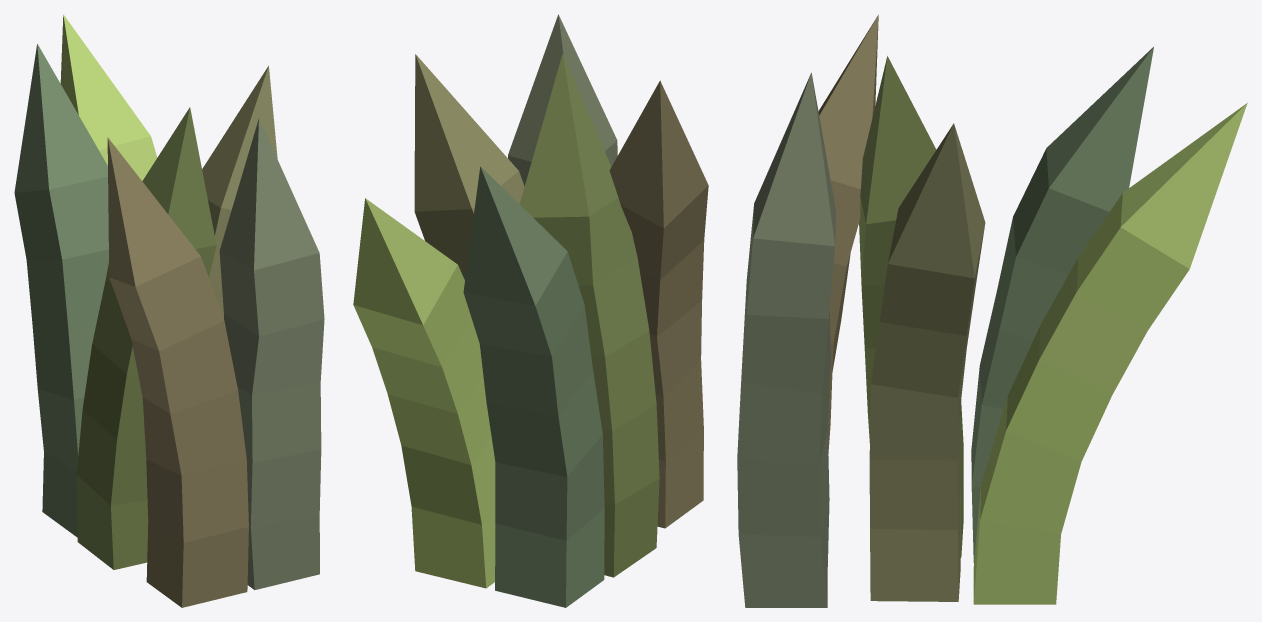
File: V_Grama2.fbx
3 views of the same model, side by side, from view 1: azimuth 30°, elevation 25°; view 2: azimuth 150°, elevation 25°; view 3: azimuth 270°, elevation 25° (orthographic). The views are drawn at different scales.
Parts seen in each view (by area): view 1: Cube.003; view 2: Cube.003; view 3: Cube.003.
Part boxes in pixels (x1,y1,x2,y2): Cube.003: (14, 14, 324, 607); Cube.003: (353, 14, 708, 607); Cube.003: (737, 14, 1247, 607).
Size of the model in its own units: 143 by 301 by 269.
